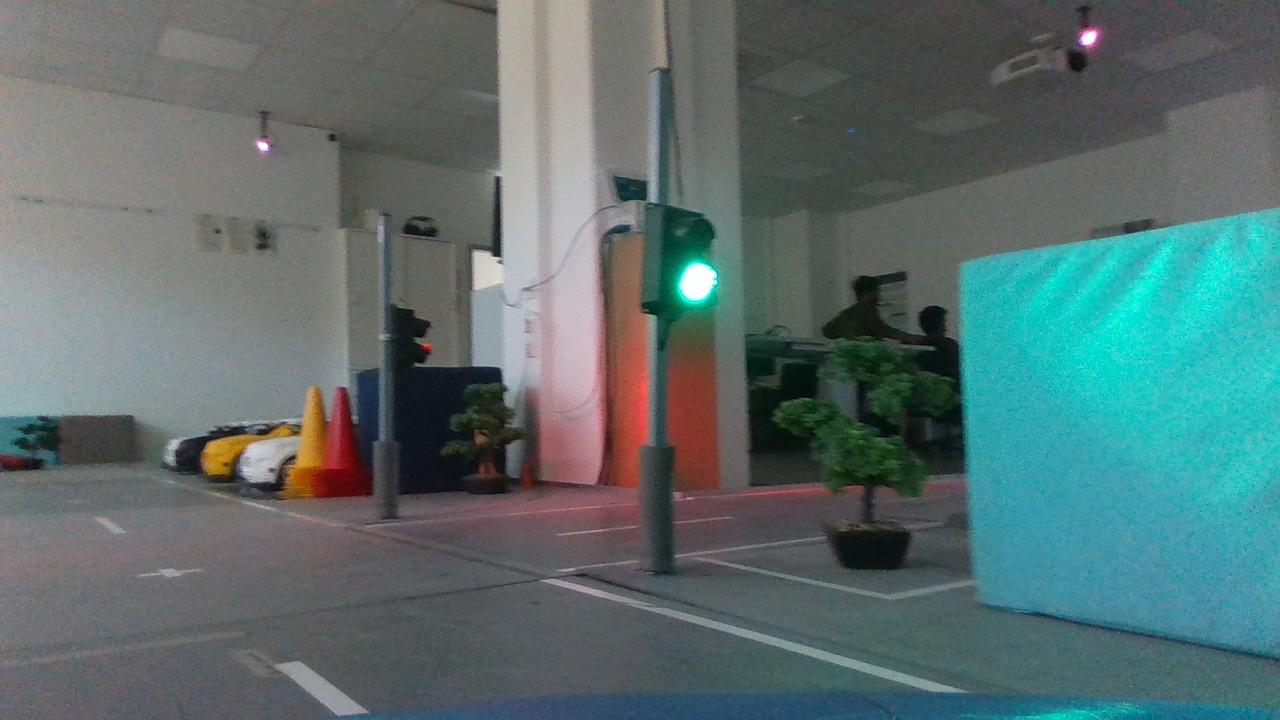traffic_light_green: (618, 193, 746, 328)
